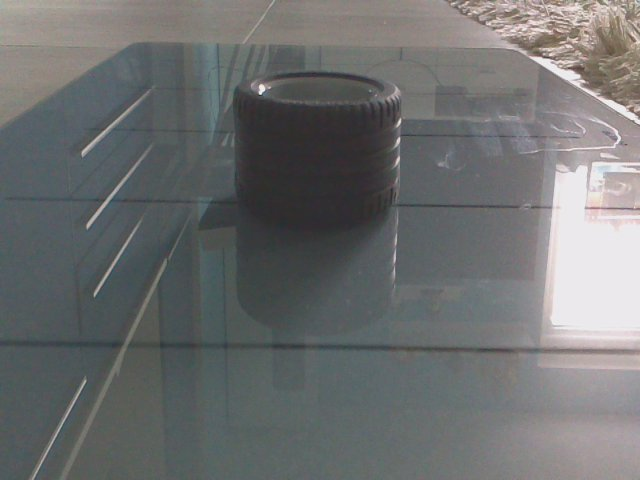Rad: (224, 66, 408, 227)
